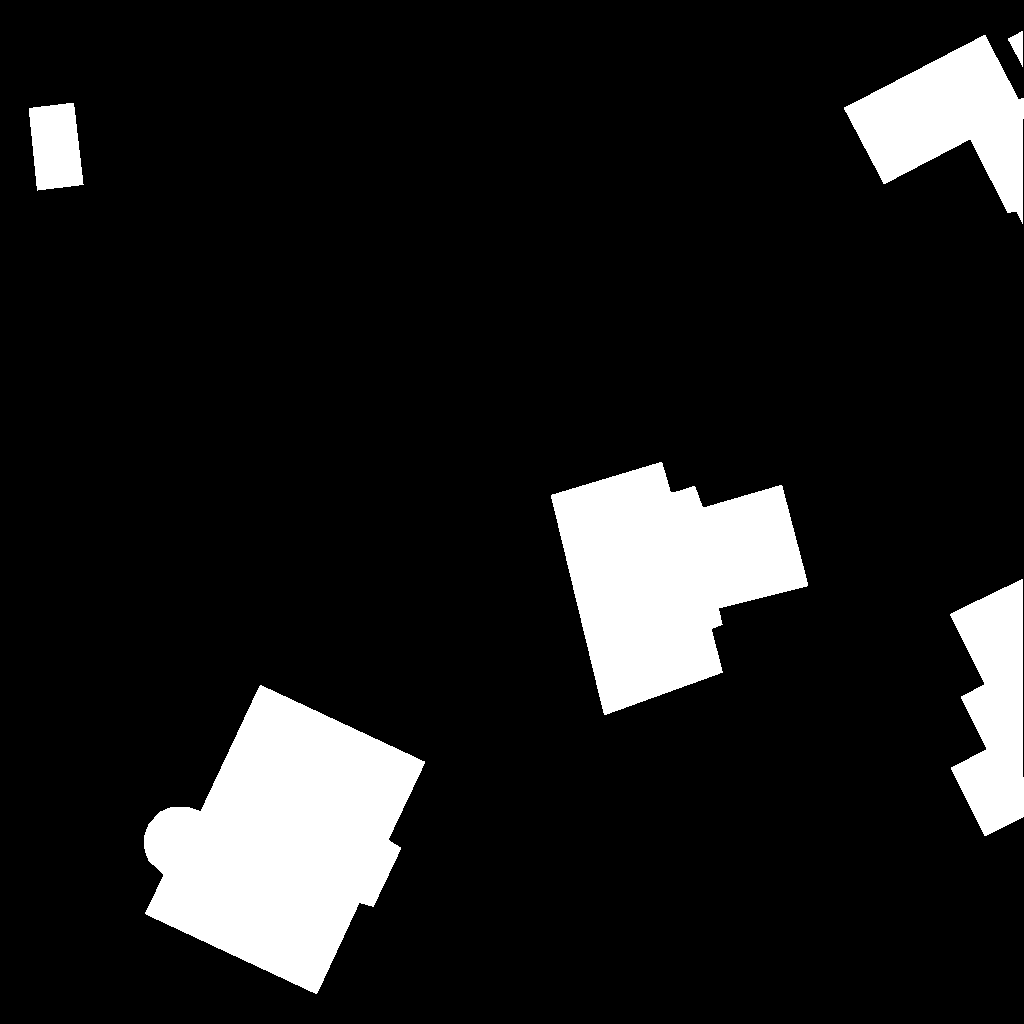building: (144, 685, 426, 995), (551, 462, 809, 716), (844, 31, 1024, 226), (950, 579, 1024, 837), (29, 103, 84, 191)
